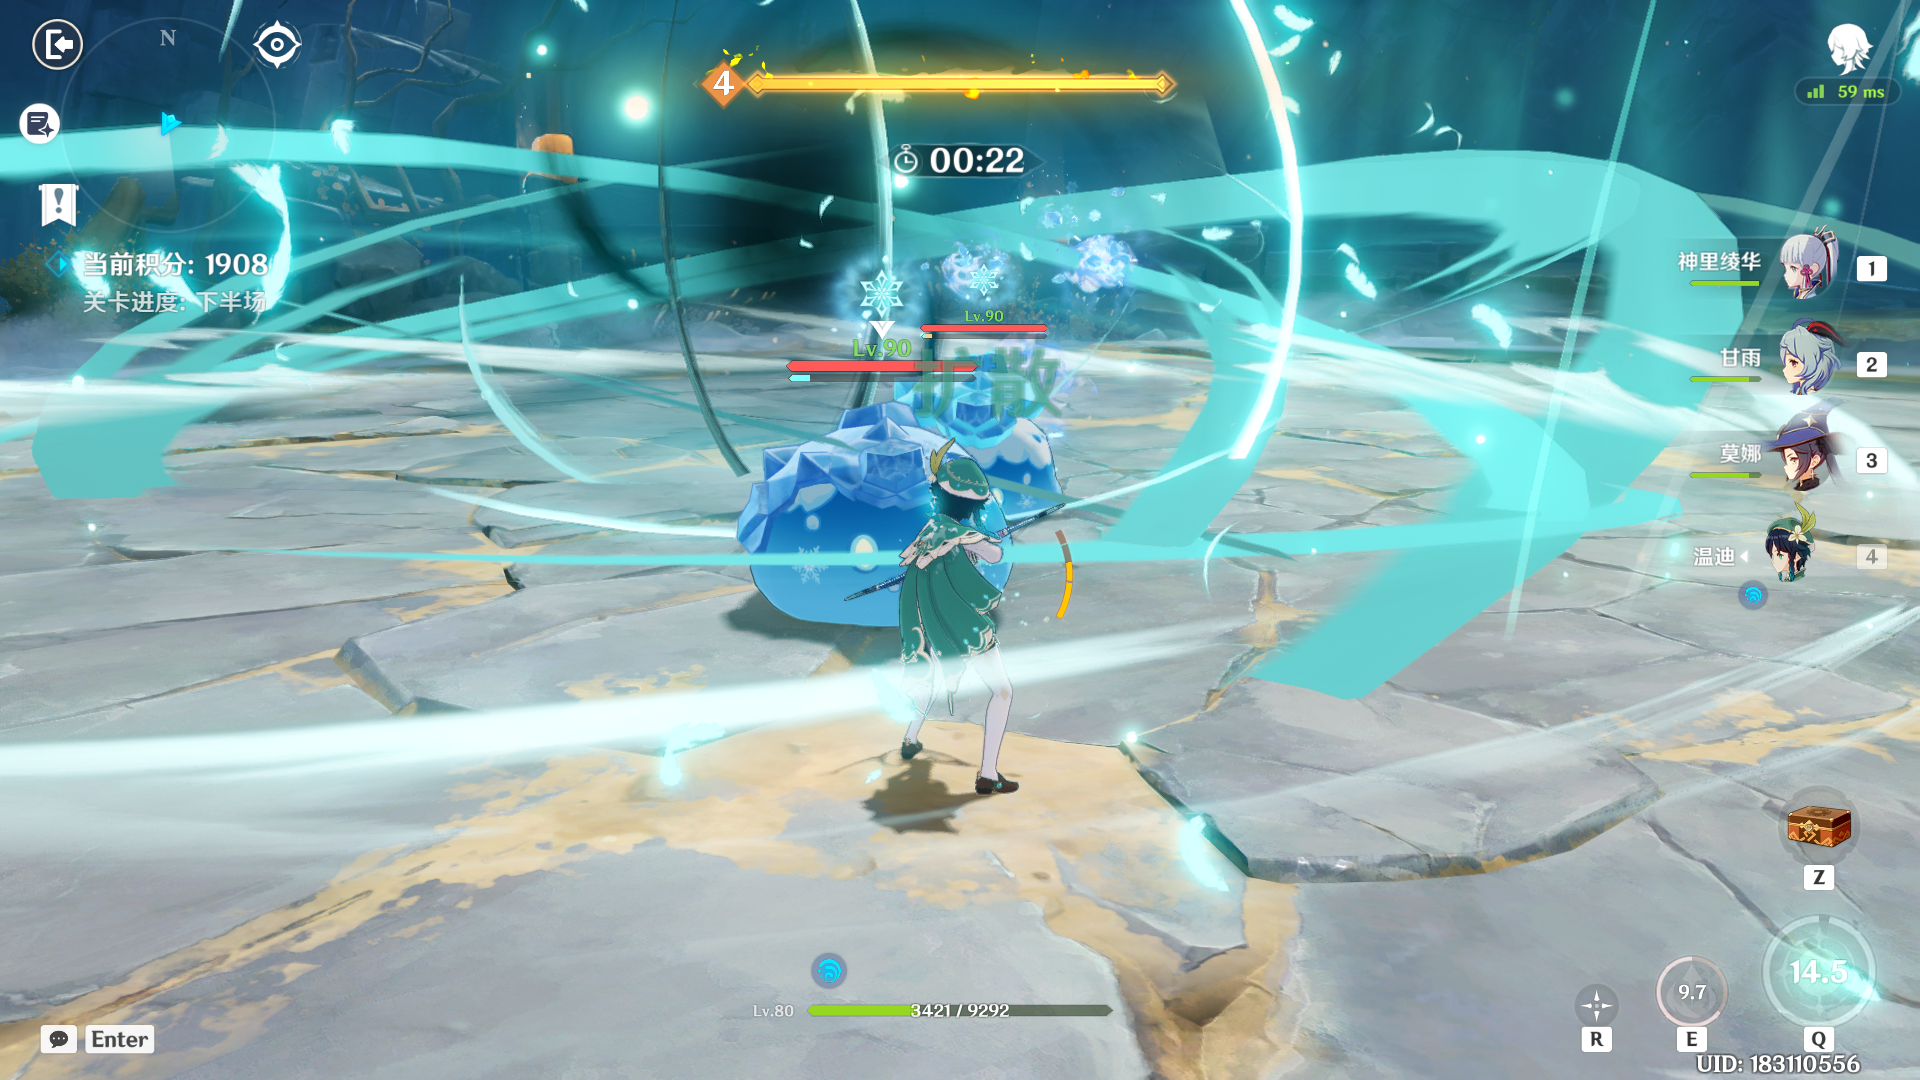character: (876, 431, 1062, 827)
slime: (702, 384, 997, 634)
